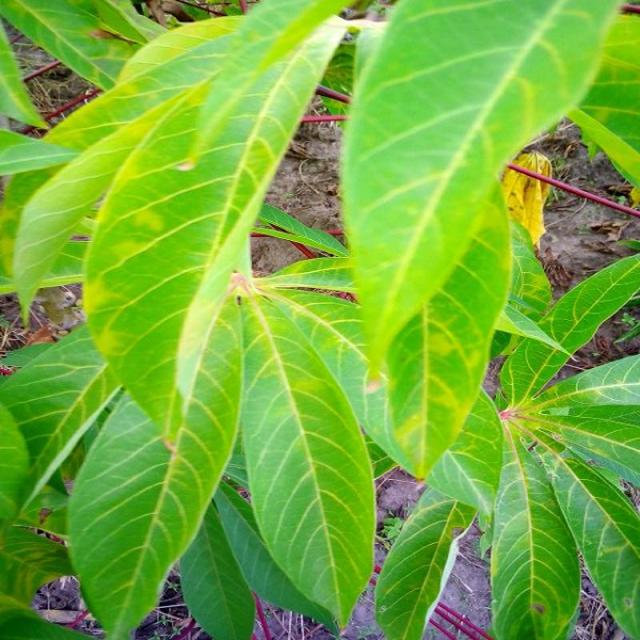cassava leaf: (2, 0, 638, 638), (338, 0, 624, 478), (80, 0, 350, 443), (239, 286, 378, 632)
